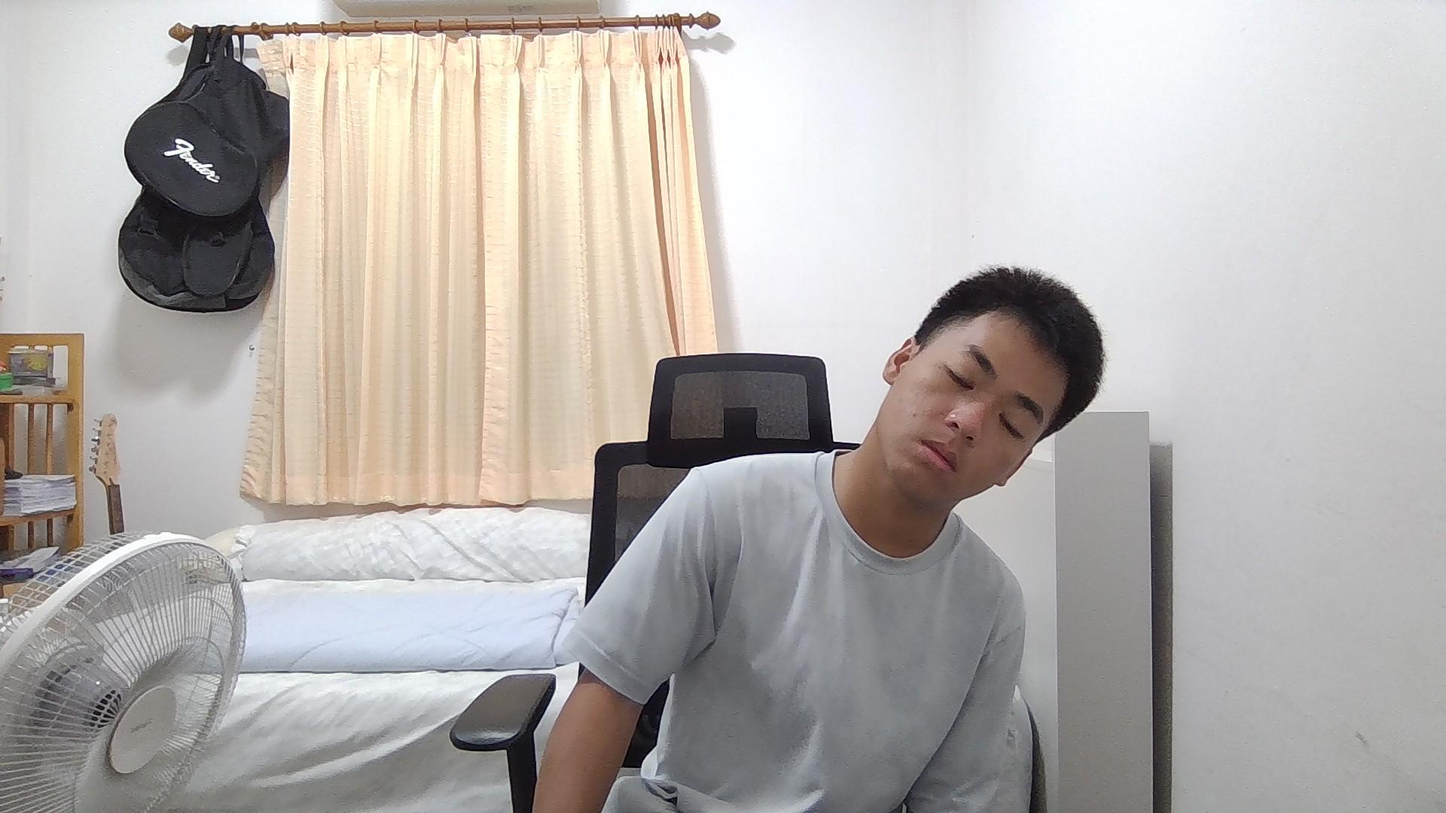BadPosture: (538, 269, 1102, 812)
